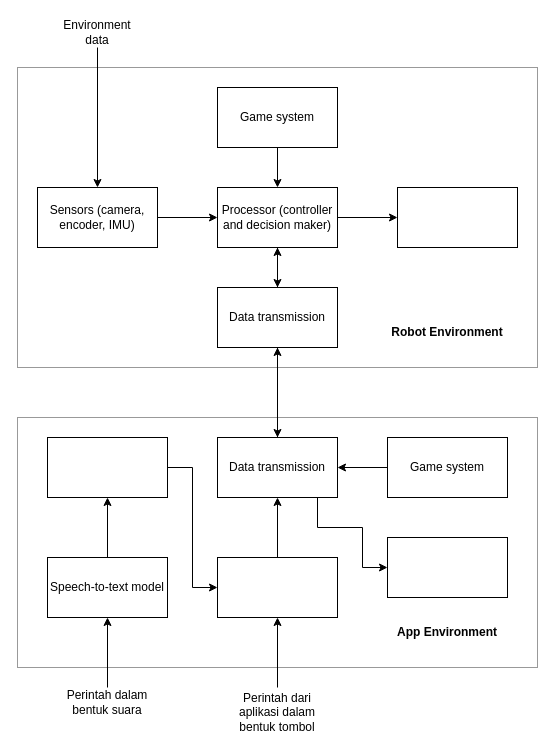
This 555x754 diagram has some shape labels left out. Here are the shapes that lost their labels. From the top down, the centre of each, then its label:
At point 457,217: "Actuator (motor, servo, LCD)".
At point 107,467: "Semantic model".
At point 277,587: "Command generated".
At point 447,567: "App display".
